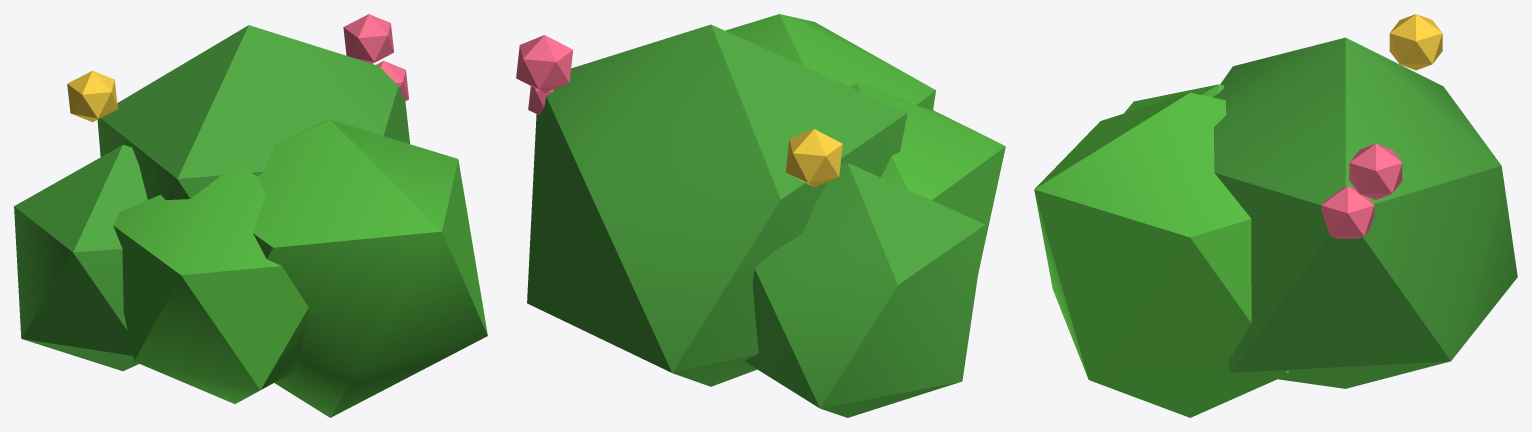
The model's file is bush.fbx.
3 renders of one model, left to right at view 1: azimuth 30°, elevation 25°; view 2: azimuth 150°, elevation 25°; view 3: azimuth 270°, elevation 25°, orthographic. The views are drawn at different scales.
Parts seen in each view (by area): view 1: bush; view 2: bush; view 3: bush.
Part boxes in pixels (x1,y1,x2,y2): bush: (14, 14, 487, 417); bush: (516, 14, 1005, 417); bush: (1034, 14, 1517, 417).
Size of the model in its own units: 0.6204 by 0.5308 by 0.6206.
